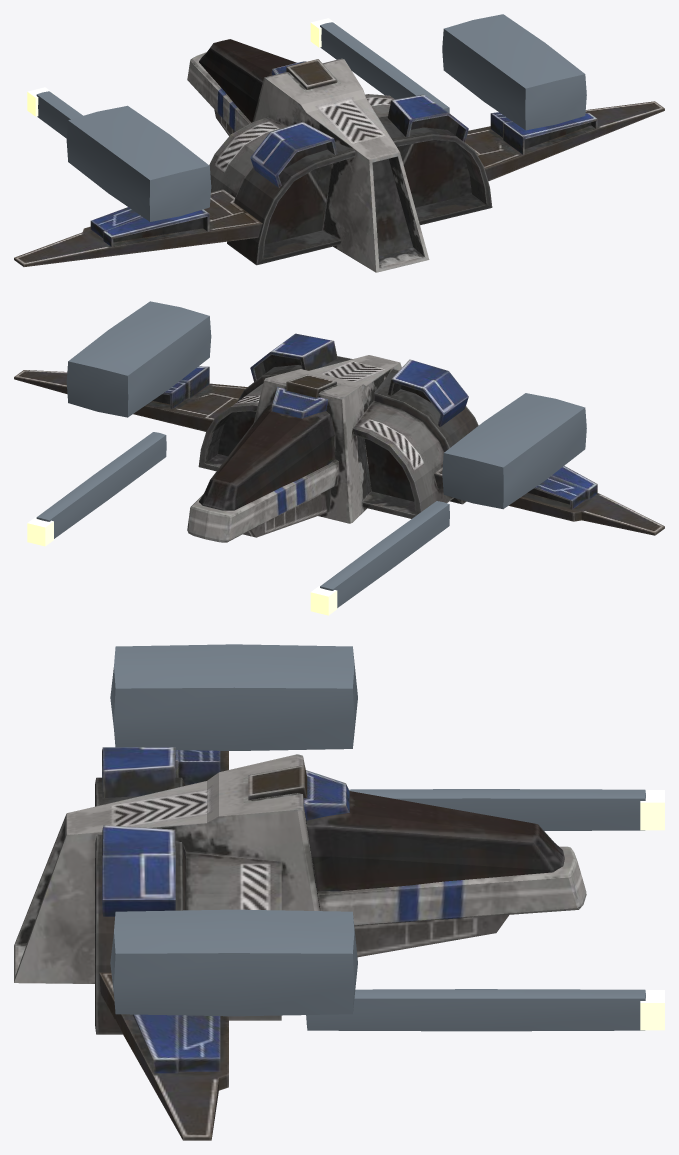
Rendered from enemy_hunter.glb.
3 views of the same model, one above another, from view 1: azimuth 30°, elevation 25°; view 2: azimuth 150°, elevation 25°; view 3: azimuth 270°, elevation 25° (orthographic). The views are drawn at different scales.
Parts seen in each view (by area): view 1: enemy_hunter; view 2: enemy_hunter; view 3: enemy_hunter.
Boxes of the visible parts, x1=… form: enemy_hunter: x1=14, y1=14, x2=664, y2=272; enemy_hunter: x1=14, y1=301, x2=664, y2=615; enemy_hunter: x1=14, y1=644, x2=664, y2=1140.
Bounding box in the file's own units: 1.95 × 0.3771 × 1.18.
3 materials, 1 textured.
